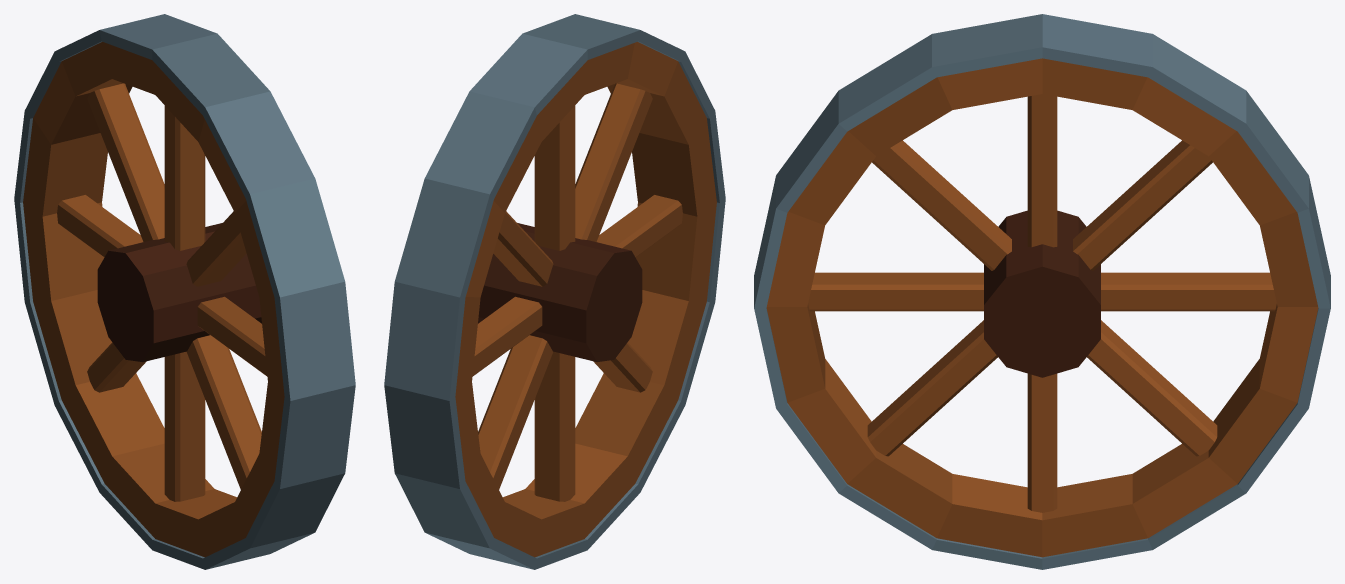
Rendered from D16_Cart_Wheel.fbx.
3 renders of one model, left to right at view 1: azimuth 30°, elevation 25°; view 2: azimuth 150°, elevation 25°; view 3: azimuth 270°, elevation 25°, orthographic. The views are drawn at different scales.
Visible parts, largest first — view 1: D16_Cart_Wheel; view 2: D16_Cart_Wheel; view 3: D16_Cart_Wheel.
Boxes of the visible parts, left/top/right/bottom form: D16_Cart_Wheel: left=14, top=14, right=355, bottom=569; D16_Cart_Wheel: left=384, top=14, right=725, bottom=569; D16_Cart_Wheel: left=754, top=14, right=1330, bottom=569.
Bounding box in the file's own units: 0.28 × 1.13 × 1.13.
Materials: 3 (3 with a texture image).
